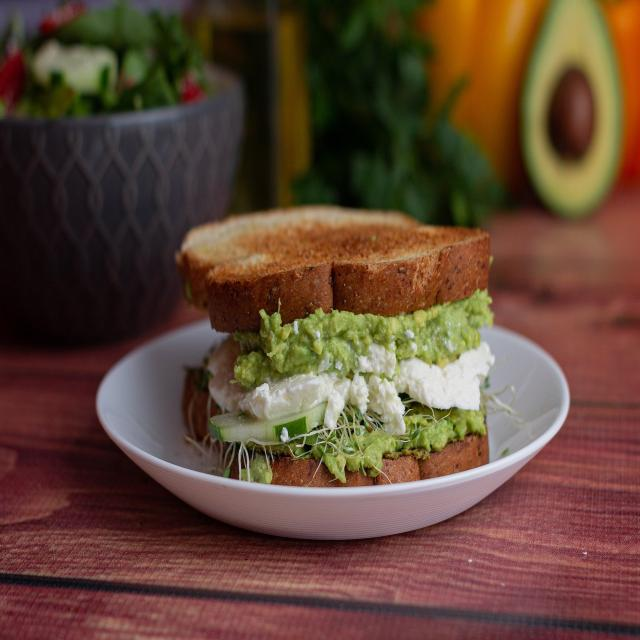aguacate: (261, 315, 487, 376)
